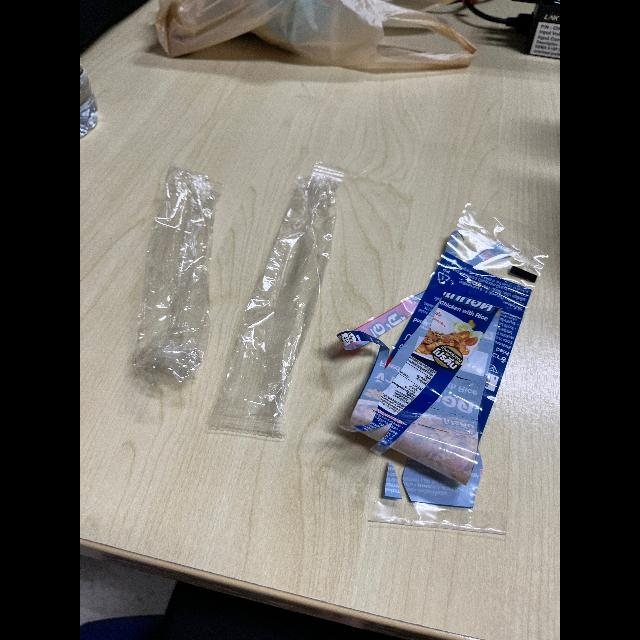scrap_plastic: (342, 176, 556, 558), (200, 158, 358, 464), (128, 158, 222, 408)
